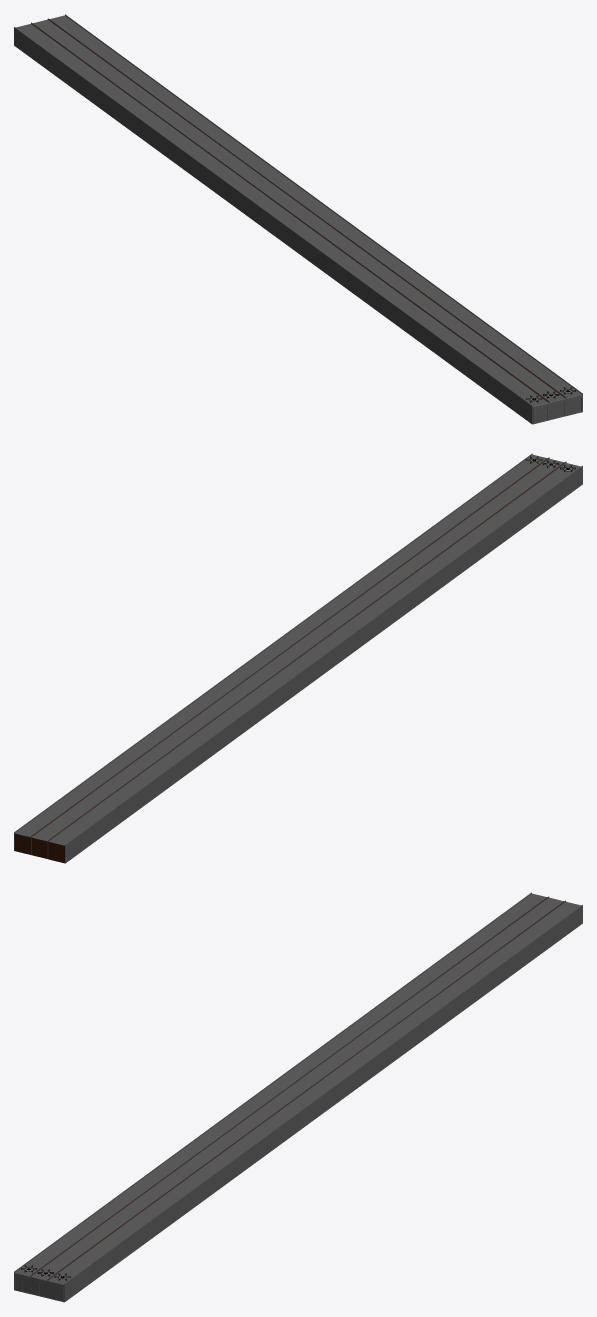
File: GasStove_three.fbx
3 renders of one model, top to bottom at view 1: azimuth 30°, elevation 25°; view 2: azimuth 150°, elevation 25°; view 3: azimuth 330°, elevation 25°, orthographic.
Visible parts, largest first — view 1: Base.002, Base, Base.001; view 2: Base.002, Base, Base.001; view 3: Base.001, Base, Base.002.
Boxes of the visible parts, x1=… form: Base.002: x1=14, y1=24, x2=549, y2=424; Base: x1=31, y1=19, x2=565, y2=420; Base.001: x1=47, y1=14, x2=582, y2=416; Base.002: x1=47, y1=461, x2=582, y2=863; Base: x1=31, y1=457, x2=565, y2=858; Base.001: x1=14, y1=453, x2=548, y2=854; Base.001: x1=47, y1=901, x2=582, y2=1302; Base: x1=31, y1=896, x2=565, y2=1298; Base.002: x1=14, y1=892, x2=549, y2=1294.
Size of the model in its own units: 11.62 by 4.23 by 202.
